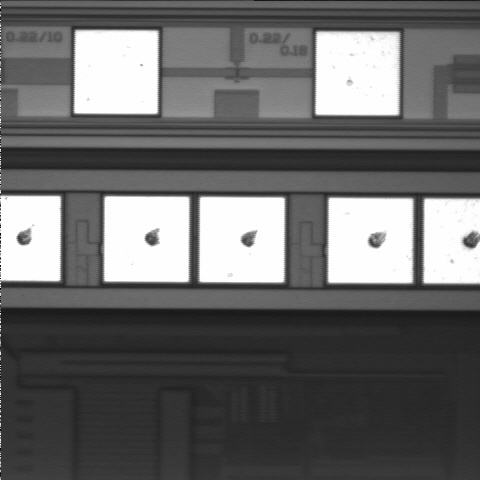pad: (104, 196, 189, 282), (328, 198, 413, 283), (200, 197, 284, 282), (75, 30, 158, 114), (316, 32, 399, 115)
